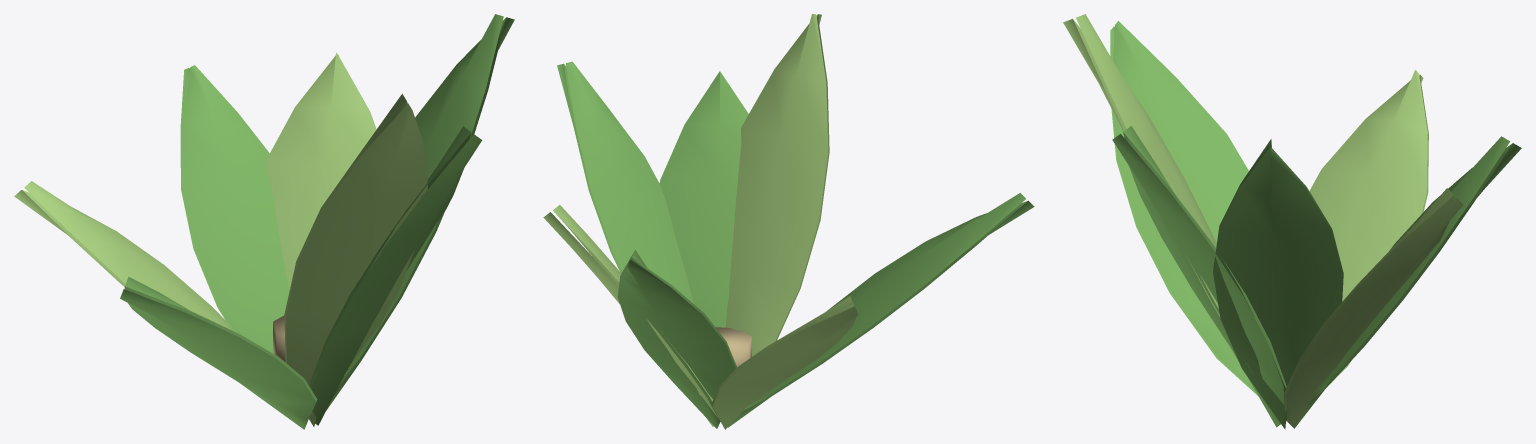
File: ITEM_EdiblePlant.fbx
3 views of the same model, side by side, from view 1: azimuth 30°, elevation 25°; view 2: azimuth 150°, elevation 25°; view 3: azimuth 270°, elevation 25° (orthographic). The views are drawn at different scales.
Parts seen in each view (by area): view 1: ITEM_EdiblePlant; view 2: ITEM_EdiblePlant; view 3: ITEM_EdiblePlant.
Part boxes in pixels (x1,y1,x2,y2): ITEM_EdiblePlant: [14, 14, 514, 429]; ITEM_EdiblePlant: [543, 14, 1034, 429]; ITEM_EdiblePlant: [1063, 14, 1521, 429].
Bounding box in the file's own units: 0.2072 × 0.1702 × 0.172.
